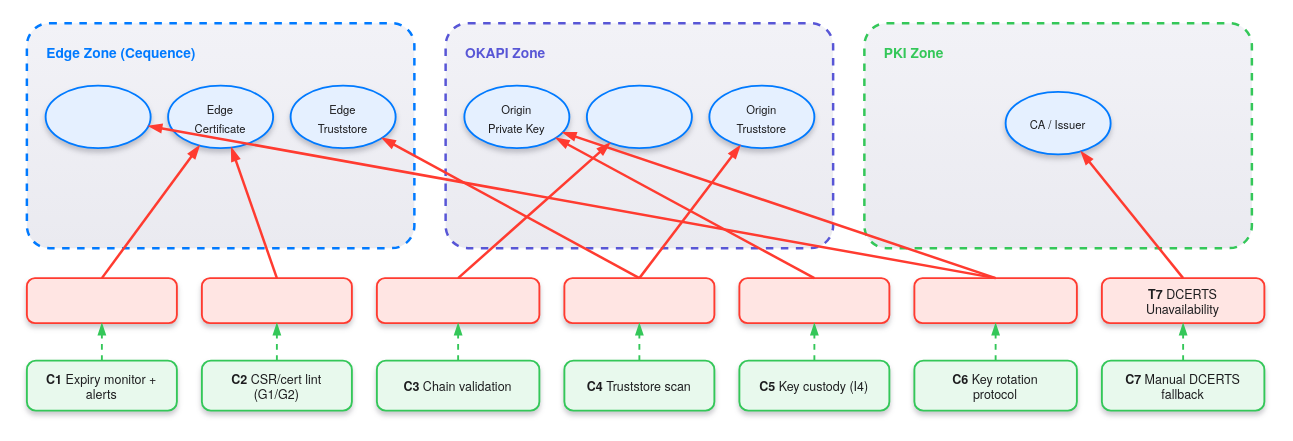
Some shapes in this 1293 by 441 pixel diagram are drawn without their labels. Here are the shapes that lost their labels. From the top down, the centre of each, then its label:
(97,118): Edge Private Key
(638,118): Origin Certificate
(101,302): T1 Expiry Outage
(276,302): T2 Mis-issuance
(457,302): T3 Chain Incompatibility
(639,302): T4 Truststore Drift
(814,302): T5 Secret Leakage
(995,302): T6 Key Compromise
